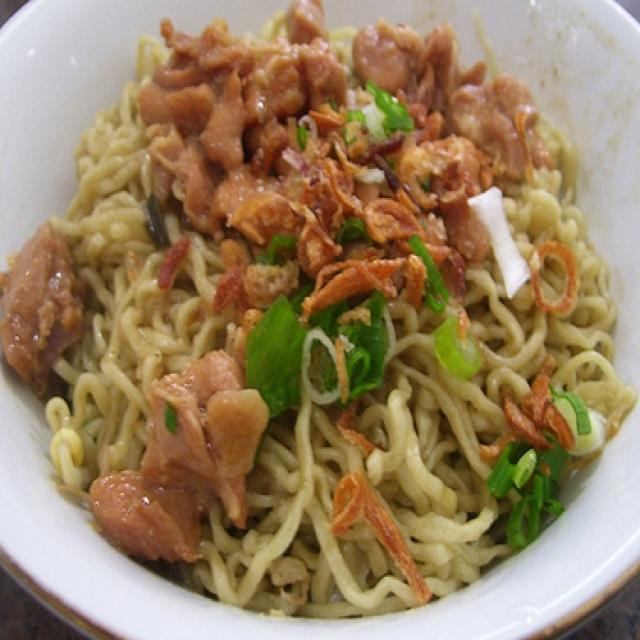面条主食: (5, 15, 635, 628)
